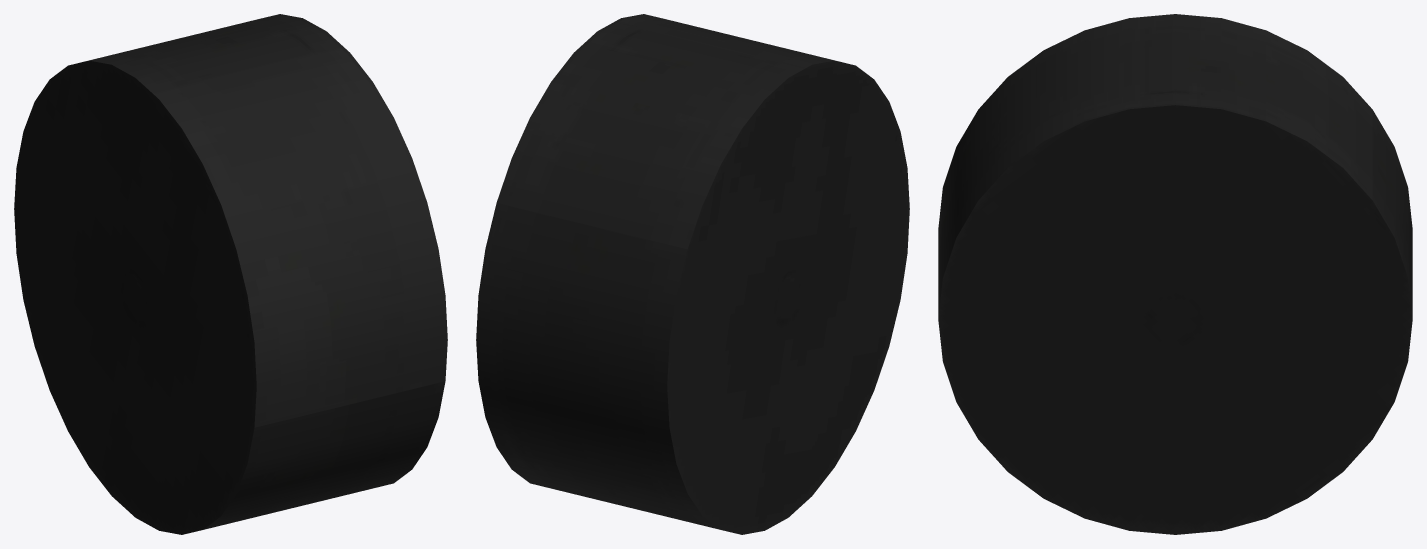
The model's file is reel_bank__right_reel.glb.
3 renders of one model, left to right at view 1: azimuth 30°, elevation 25°; view 2: azimuth 150°, elevation 25°; view 3: azimuth 270°, elevation 25°, orthographic. The views are drawn at different scales.
Parts seen in each view (by area): view 1: world; view 2: world; view 3: world.
Boxes of the visible parts, box(x1,y1,x2,y2) form: world: box(14, 14, 447, 534); world: box(476, 14, 909, 534); world: box(938, 14, 1412, 534).
Bounding box in the file's own units: 0.1 × 0.22 × 0.22.
1 material, 1 textured.
